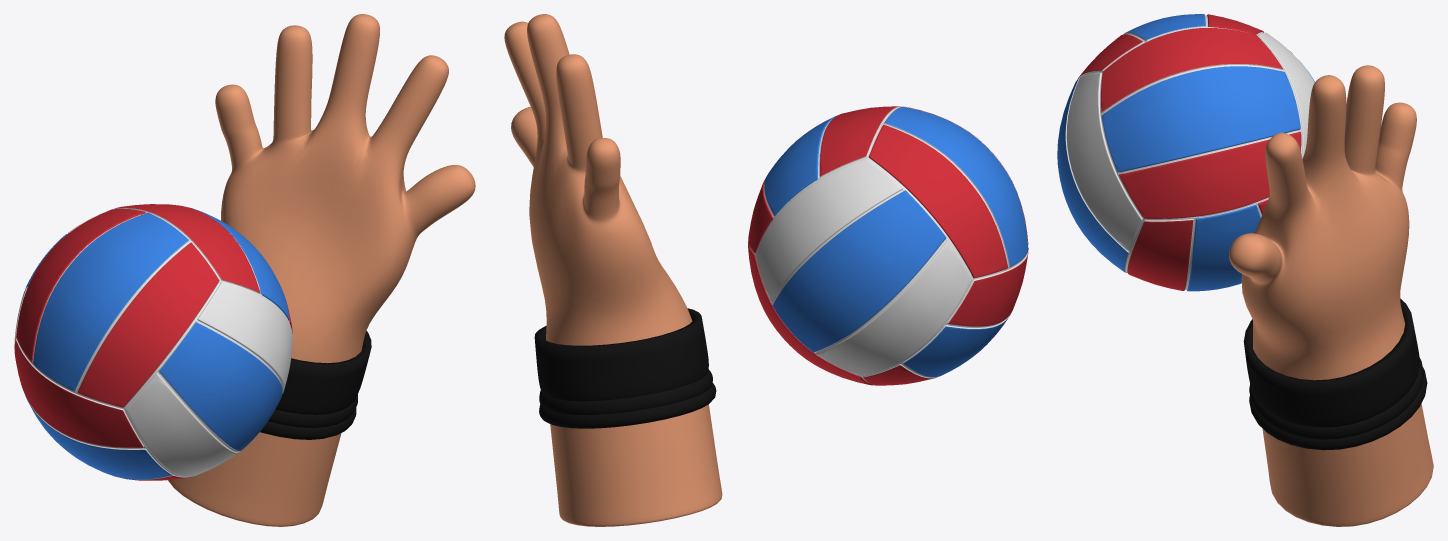
Rendered from volleyball.gltf.
3 views of the same model, side by side, from view 1: azimuth 30°, elevation 25°; view 2: azimuth 150°, elevation 25°; view 3: azimuth 270°, elevation 25° (orthographic).
Parts seen in each view (by area): view 1: Cube, Vert.001, Vert.002; view 2: Cube, Vert.001, Vert.002; view 3: Vert.001, Cube, Vert.002.
Part boxes in pixels (x1,y1,x2,y2): Cube: (14,204,292,480); Vert.001: (168,14,475,526); Vert.002: (260,330,371,439); Cube: (748,106,1028,385); Vert.001: (504,14,722,526); Vert.002: (534,308,716,428); Vert.001: (1229,65,1433,526); Cube: (1057,14,1314,291); Vert.002: (1243,298,1427,450).
Bounding box in the file's own units: 3.37 × 3.26 × 2.36.
